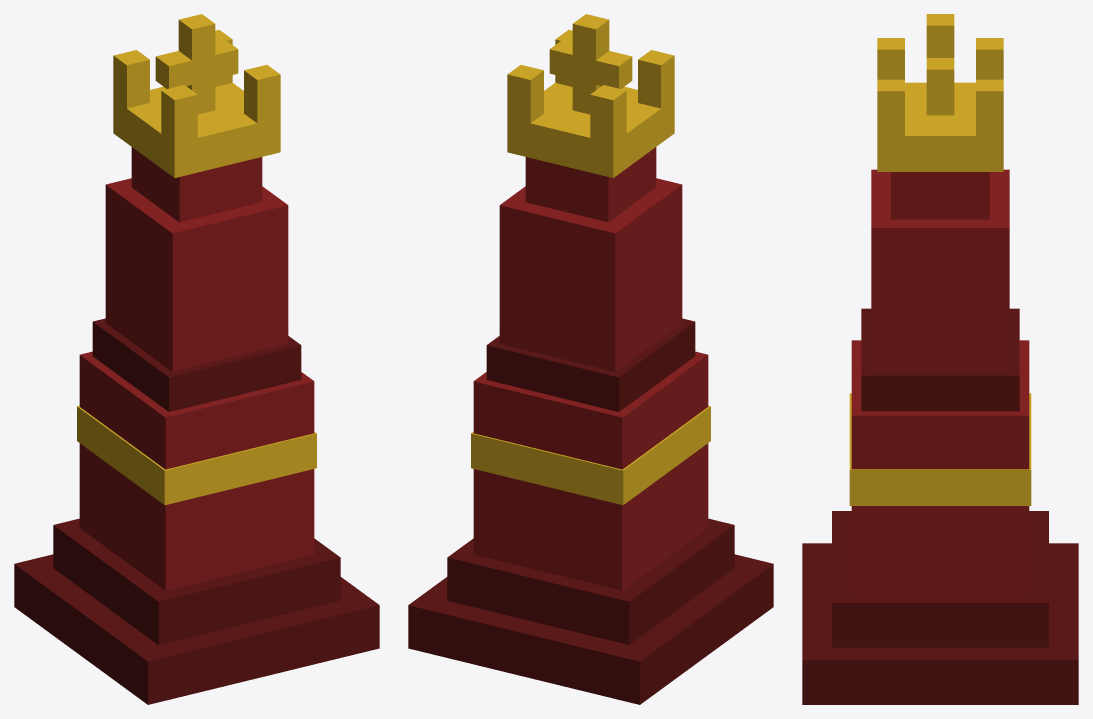
The model's file is king.gltf.
The picture shows the model from 3 angles, left to right: view 1: azimuth 30°, elevation 25°; view 2: azimuth 150°, elevation 25°; view 3: azimuth 270°, elevation 25°; orthographic projection. The views are drawn at different scales.
Visible parts, largest first — view 1: body, upper, base, foot, belt, waist, crown_band, head, cross_v, cross_h, crown_p3, crown_p4 (+1 smaller); view 2: body, upper, base, foot, belt, waist, crown_band, head, cross_v, cross_h, crown_p1, crown_p2 (+1 smaller); view 3: body, upper, base, foot, waist, crown_band, belt, head, cross_v, crown_p2, crown_p4, crown_p1 (+2 smaller).
Boxes of the visible parts, x1,y1,x2,y2 form: body: (79,351,314,590); upper: (105,178,288,371); base: (14,554,379,704); foot: (53,518,340,644); belt: (77,406,316,505); waist: (92,318,301,411); crown_band: (113,83,280,177); head: (131,147,262,222); cross_v: (178,14,215,114); cross_h: (155,39,238,88); crown_p3: (161,85,197,143); crown_p4: (244,65,280,123); body: (473,351,708,590); upper: (499,178,682,371); base: (408,554,773,704); foot: (447,518,734,644); belt: (471,406,710,505); waist: (486,318,695,411); crown_band: (507,83,674,177); head: (525,147,656,222); cross_v: (572,14,609,114); cross_h: (549,39,632,88); crown_p1: (590,85,626,143); crown_p2: (507,65,543,123); body: (851,340,1029,594); upper: (871,169,1009,371); base: (802,543,1078,704); foot: (832,511,1048,647); waist: (861,308,1019,411); crown_band: (877,82,1003,171); belt: (849,393,1031,505); head: (891,172,989,219); cross_v: (926,14,954,115); crown_p2: (976,79,1003,135); crown_p4: (877,79,904,135); crown_p1: (976,38,1003,79).
Bounding box in the file's own units: 0.875 × 2.19 × 0.875.
Materials: 3 (3 with a texture image).
